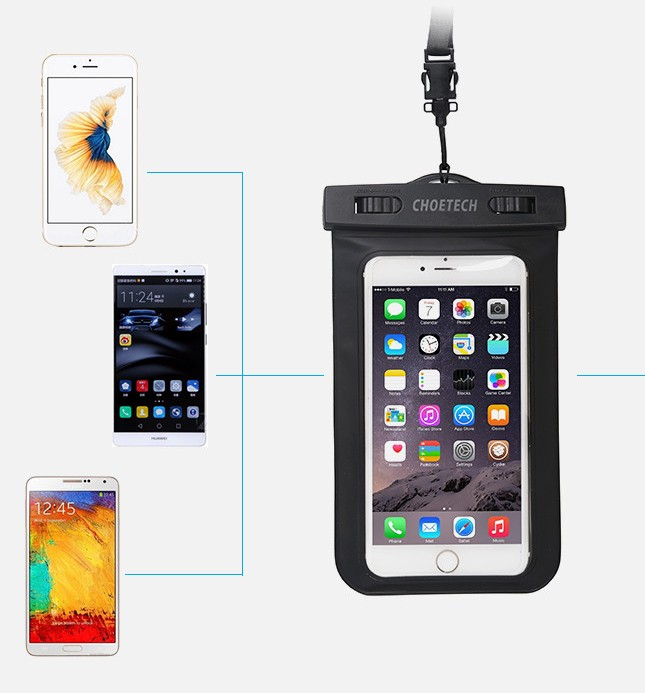Phone: (353, 246, 536, 587), (40, 52, 142, 249), (22, 473, 124, 661), (110, 261, 208, 450)
